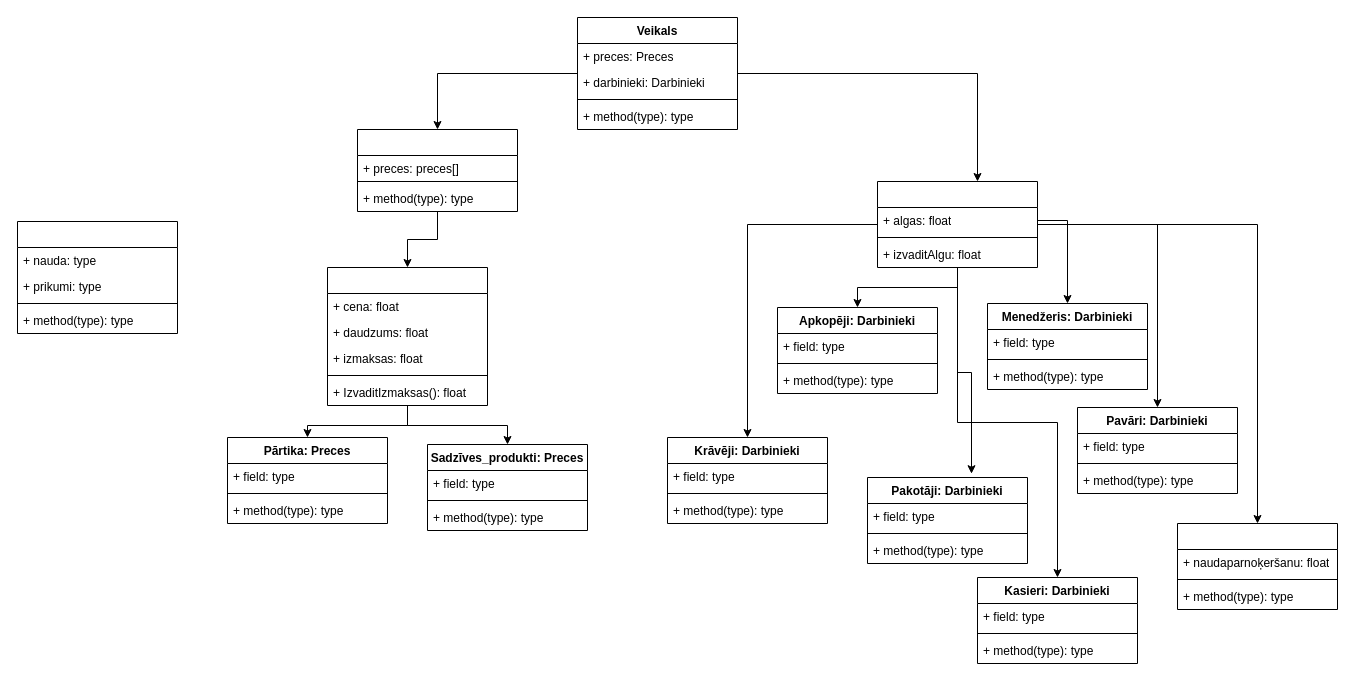
The diagram is 1355 pixels wide and 684 high, and some of its shapes have lost their labels. Here are the shapes that lost their labels. From the top down, the box of each, then its label:
(356, 128, 518, 212): Telpa
(876, 180, 1038, 268): Darbinieki
(16, 220, 178, 334): Klients
(326, 266, 488, 406): Preces
(1176, 522, 1338, 610): Apsargi: Darbinieki
